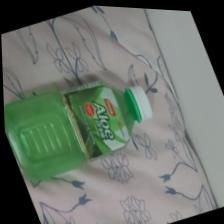paper: (120, 194, 150, 223)
plastic: (5, 49, 161, 203)
